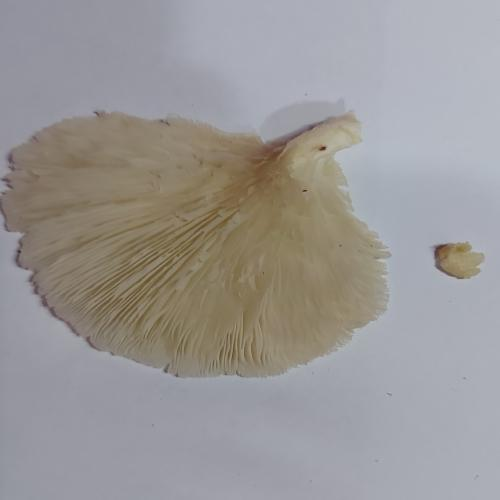Oyster Mushroom: (2, 104, 392, 379)
